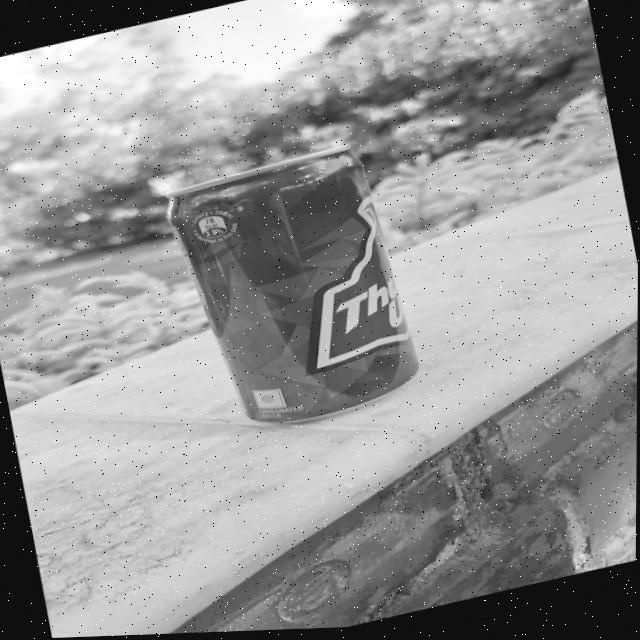Thums Up: (172, 141, 442, 438)
